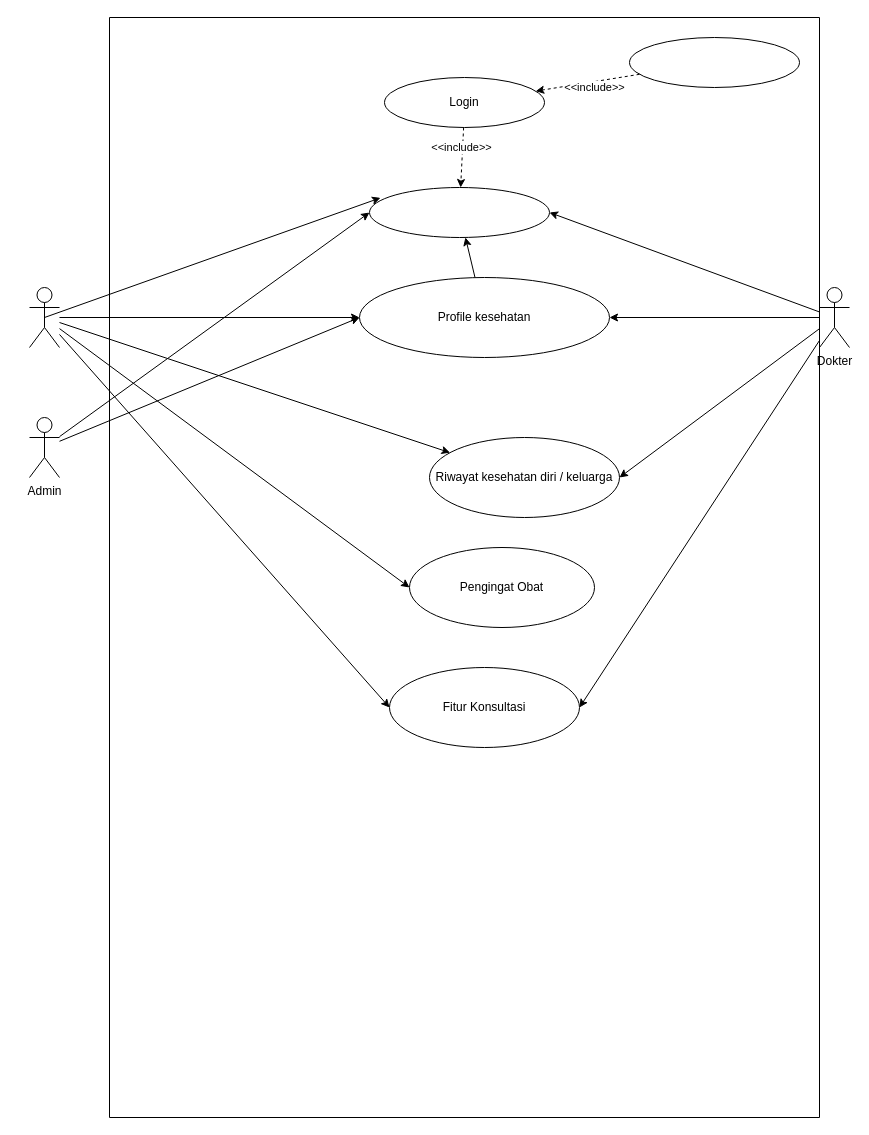
Image size: 869x1135. Some labels were removed from this diagram. The shapes that lost their labels are listed below. From the top down, each one's centre as x and y in pixels, then its label:
At (714,62): "Registrasi".
At (459,212): "Home".
At (44,317): "Pengguna".
